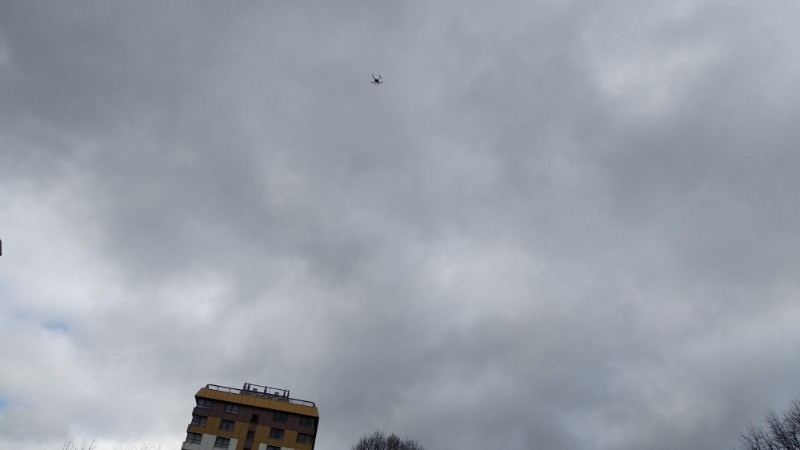drone: (370, 74, 384, 86)
